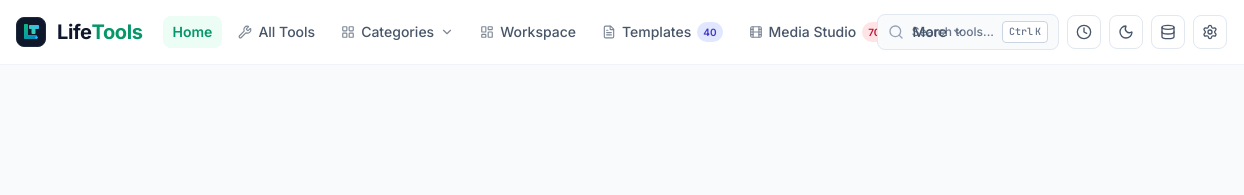
Test: Favorites — Clean Empty State & Dynamic Updates › closes More dropdown when Escape is pressed
Click the button titled "More navigation options": (939, 32) [902,16,975,48]
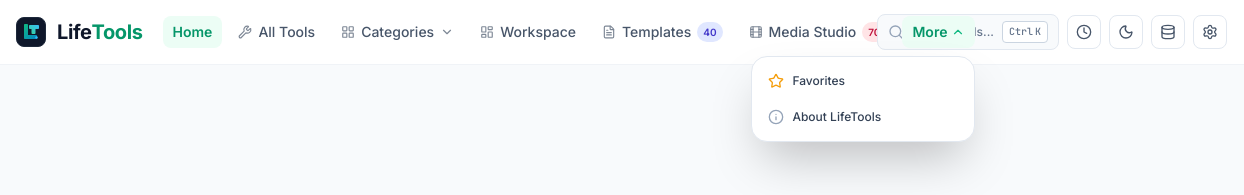
Expected: the button titled "More navigation options" is expanded, [902,16,976,48]
Press Escape
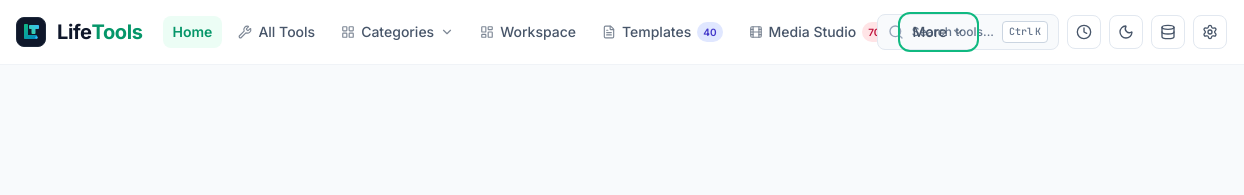
Expected: the button titled "More navigation options" is collapsed, [902,16,975,48]
